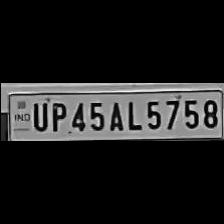4: (66, 98, 86, 132)
5: (85, 98, 105, 132), (141, 97, 161, 130), (180, 96, 198, 130)
7: (161, 96, 179, 130)
8: (199, 96, 219, 130)
A: (105, 98, 125, 132)
L: (123, 97, 141, 131)
P: (47, 98, 67, 132)
U: (28, 99, 48, 131)
